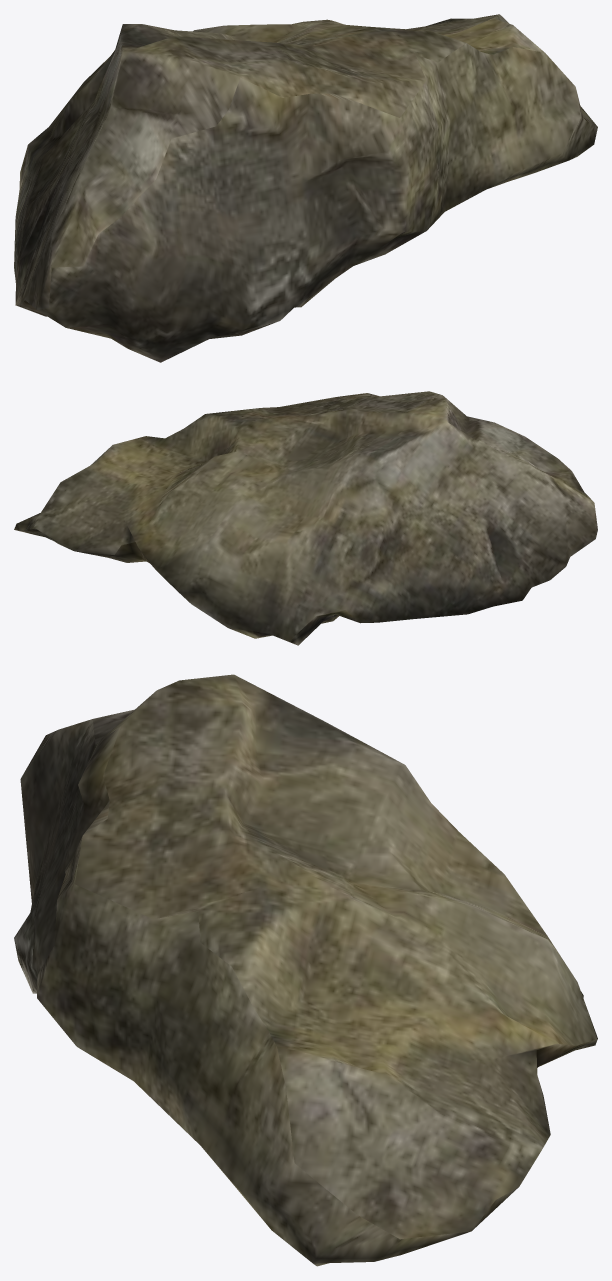
Rendered from mossy_rock_b_2.glb.
The picture shows the model from 3 angles, top to bottom: view 1: azimuth 30°, elevation 25°; view 2: azimuth 150°, elevation 25°; view 3: azimuth 270°, elevation 25°; orthographic projection. The views are drawn at different scales.
Visible parts, largest first — view 1: rock_moss_set_02_rock09; view 2: rock_moss_set_02_rock09; view 3: rock_moss_set_02_rock09.
Part boxes in pixels (x1,y1,x2,y2): rock_moss_set_02_rock09: (14, 14, 597, 362); rock_moss_set_02_rock09: (14, 391, 597, 645); rock_moss_set_02_rock09: (14, 674, 597, 1266).
Bounding box in the file's own units: 1.62 × 0.6027 × 1.01.
Materials: 1 (1 with a texture image).
